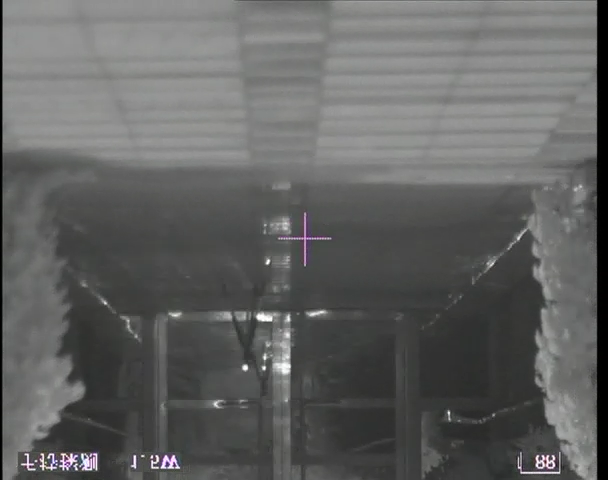my: (240, 364, 249, 372)
